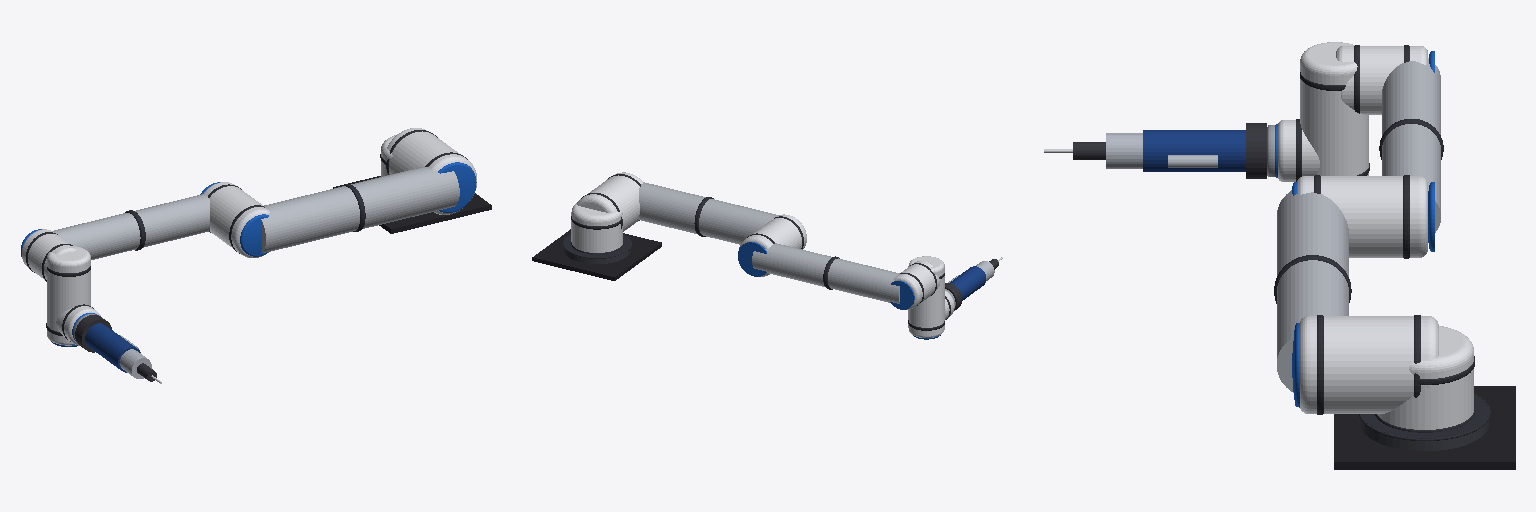
robot.urdf — sixaxis_ur5like:
<?xml version="1.0"?>
<robot name="sixaxis_ur5like">
  <material name="housing"><color rgba="0.86 0.87 0.89 1.0"/></material>
  <material name="tube"><color rgba="0.72 0.74 0.77 1.0"/></material>
  <material name="cap"><color rgba="0.16 0.42 0.78 1.0"/></material>
  <material name="ring"><color rgba="0.22 0.23 0.26 1.0"/></material>
  <material name="base"><color rgba="0.28 0.29 0.32 1.0"/></material>
  <material name="plate"><color rgba="0.18 0.18 0.2 1.0"/></material>
  <material name="flange"><color rgba="0.62 0.64 0.67 1.0"/></material>
  <material name="tcp"><color rgba="0.95 0.55 0.1 1.0"/></material>
  <link name="base_link">
    <inertial><mass value="1"/><inertia ixx="1" iyy="1" izz="1" ixy="0" ixz="0" iyz="0"/></inertial>
    <visual><origin xyz="0.0 0.0 0.005" rpy="0.0 0.0 0.0"/><geometry><box size="0.22 0.22 0.01"/></geometry><material name="plate"/></visual>
    <collision><origin xyz="0.0 0.0 0.005" rpy="0.0 0.0 0.0"/><geometry><box size="0.22 0.22 0.01"/></geometry></collision>
    <visual><origin xyz="0.0 0.0 0.0185" rpy="0.0 0.0 0.0"/><geometry><mesh filename="meshes/housing_L0170_R0780.obj" scale="1 1 1"/></geometry><material name="base"/></visual>
    <collision><origin xyz="0.0 0.0 0.0185" rpy="0.0 0.0 0.0"/><geometry><cylinder length="0.017" radius="0.078"/></geometry></collision>
    <visual><origin xyz="0.0 0.0 0.0255" rpy="0.0 0.0 0.0"/><geometry><mesh filename="meshes/ring_L0030_R0800.obj" scale="1 1 1"/></geometry><material name="ring"/></visual>
  </link>
  <link name="link1">
    <inertial><origin xyz="0.0 0.0 0.0445795" rpy="0.0 0.0 0.0"/><mass value="3.7"/><inertia ixx="0.005781042578308333" iyy="0.005781042578308333" izz="0.00666" ixy="0" ixz="0" iyz="0"/></inertial>
    <visual><origin xyz="0.0 0.0 0.06" rpy="0.0 0.0 0.0"/><geometry><mesh filename="meshes/housing_L1200_R0600.obj" scale="1 1 1"/></geometry><material name="housing"/></visual>
    <collision><origin xyz="0.0 0.0 0.06" rpy="0.0 0.0 0.0"/><geometry><cylinder length="0.12" radius="0.06"/></geometry></collision>
    <visual><origin xyz="0.0 0.0 0.025999999999999995" rpy="0.0 0.0 0.0"/><geometry><mesh filename="meshes/ring_L0100_R0612.obj" scale="1 1 1"/></geometry><material name="ring"/></visual>
    <visual><origin xyz="0.0 0.0 0.094" rpy="0.0 0.0 0.0"/><geometry><mesh filename="meshes/ring_L0100_R0612.obj" scale="1 1 1"/></geometry><material name="ring"/></visual>
  </link>
  <link name="link2">
    <inertial><origin xyz="-0.2125 0.0 0.0" rpy="0.0 -1.5707963267948966 0.0"/><mass value="8.393"/><inertia ixx="0.13267934166666667" iyy="0.13267934166666667" izz="0.012694412500000002" ixy="0" ixz="0" iyz="0"/></inertial>
    <visual><origin xyz="0.0 0.0 0.068" rpy="0.0 0.0 0.0"/><geometry><mesh filename="meshes/housing_L1700_R0600.obj" scale="1 1 1"/></geometry><material name="housing"/></visual>
    <collision><origin xyz="0.0 0.0 0.068" rpy="0.0 0.0 0.0"/><geometry><cylinder length="0.17" radius="0.06"/></geometry></collision>
    <visual><origin xyz="0.0 0.0 0.008999999999999994" rpy="0.0 0.0 0.0"/><geometry><mesh filename="meshes/ring_L0100_R0612.obj" scale="1 1 1"/></geometry><material name="ring"/></visual>
    <visual><origin xyz="0.0 0.0 0.15600000000000003" rpy="0.0 0.0 0.0"/><geometry><mesh filename="meshes/cap_L0100_R0516.obj" scale="1 1 1"/></geometry><material name="cap"/></visual>
    <visual><origin xyz="0.0 0.0 0.127" rpy="0.0 0.0 0.0"/><geometry><mesh filename="meshes/ring_L0100_R0612.obj" scale="1 1 1"/></geometry><material name="ring"/></visual>
    <visual><origin xyz="-0.2125 0.0 0.13585" rpy="0.0 -1.5707963267948966 0.0"/><geometry><mesh filename="meshes/tube_L4250_R0440.obj" scale="1 1 1"/></geometry><material name="tube"/></visual>
    <collision><origin xyz="-0.2125 0.0 0.13585" rpy="0.0 -1.5707963267948966 0.0"/><geometry><cylinder length="0.425" radius="0.044"/></geometry></collision>
    <visual><origin xyz="-0.2125 0.0 0.13585" rpy="-0.0 1.5707963267948966 0.0"/><geometry><mesh filename="meshes/ring_L0120_R0470.obj" scale="1 1 1"/></geometry><material name="ring"/></visual>
  </link>
  <link name="link3">
    <inertial><origin xyz="-0.196125 0.0 0.0" rpy="0.0 -1.5707963267948966 0.0"/><mass value="2.275"/><inertia ixx="0.030321022265624994" iyy="0.030321022265624994" izz="0.0023034375" ixy="0" ixz="0" iyz="0"/></inertial>
    <visual><origin xyz="0.0 0.0 0.076" rpy="0.0 0.0 0.0"/><geometry><mesh filename="meshes/housing_L1600_R0500.obj" scale="1 1 1"/></geometry><material name="housing"/></visual>
    <collision><origin xyz="0.0 0.0 0.076" rpy="0.0 0.0 0.0"/><geometry><cylinder length="0.16" radius="0.05"/></geometry></collision>
    <visual><origin xyz="0.0 0.0 -0.007000000000000006" rpy="0.0 0.0 0.0"/><geometry><mesh filename="meshes/cap_L0100_R0430.obj" scale="1 1 1"/></geometry><material name="cap"/></visual>
    <visual><origin xyz="0.0 0.0 0.021999999999999992" rpy="0.0 0.0 0.0"/><geometry><mesh filename="meshes/ring_L0100_R0510.obj" scale="1 1 1"/></geometry><material name="ring"/></visual>
    <visual><origin xyz="0.0 0.0 0.159" rpy="0.0 0.0 0.0"/><geometry><mesh filename="meshes/cap_L0100_R0430.obj" scale="1 1 1"/></geometry><material name="cap"/></visual>
    <visual><origin xyz="0.0 0.0 0.13" rpy="0.0 0.0 0.0"/><geometry><mesh filename="meshes/ring_L0100_R0510.obj" scale="1 1 1"/></geometry><material name="ring"/></visual>
    <visual><origin xyz="-0.196125 0.0 0.016149999999999998" rpy="0.0 -1.5707963267948966 0.0"/><geometry><mesh filename="meshes/tube_L3922_R0360.obj" scale="1 1 1"/></geometry><material name="tube"/></visual>
    <collision><origin xyz="-0.196125 0.0 0.016149999999999998" rpy="0.0 -1.5707963267948966 0.0"/><geometry><cylinder length="0.39225" radius="0.036"/></geometry></collision>
    <visual><origin xyz="-0.196125 0.0 0.016149999999999998" rpy="-0.0 1.5707963267948966 0.0"/><geometry><mesh filename="meshes/ring_L0120_R0390.obj" scale="1 1 1"/></geometry><material name="ring"/></visual>
  </link>
  <link name="link4">
    <inertial><origin xyz="0.0 0.0 0.054575" rpy="0.0 0.0 0.0"/><mass value="1.219"/><inertia ixx="0.0016978356439583335" iyy="0.0016978356439583335" izz="0.0009752000000000001" ixy="0" ixz="0" iyz="0"/></inertial>
    <visual><origin xyz="0.0 0.0 0.052" rpy="0.0 0.0 0.0"/><geometry><mesh filename="meshes/housing_L1120_R0420.obj" scale="1 1 1"/></geometry><material name="housing"/></visual>
    <collision><origin xyz="0.0 0.0 0.052" rpy="0.0 0.0 0.0"/><geometry><cylinder length="0.112" radius="0.042"/></geometry></collision>
    <visual><origin xyz="0.0 0.0 -0.006999999999999999" rpy="0.0 0.0 0.0"/><geometry><mesh filename="meshes/cap_L0100_R0361.obj" scale="1 1 1"/></geometry><material name="cap"/></visual>
    <visual><origin xyz="0.0 0.0 0.021999999999999995" rpy="0.0 0.0 0.0"/><geometry><mesh filename="meshes/ring_L0100_R0428.obj" scale="1 1 1"/></geometry><material name="ring"/></visual>
    <visual><origin xyz="0.0 0.0 0.082" rpy="0.0 0.0 0.0"/><geometry><mesh filename="meshes/ring_L0100_R0428.obj" scale="1 1 1"/></geometry><material name="ring"/></visual>
  </link>
  <link name="link5">
    <inertial><origin xyz="0.0 0.0 0.047325" rpy="0.0 0.0 0.0"/><mass value="1.219"/><inertia ixx="0.001397646735625" iyy="0.001397646735625" izz="0.0009752000000000001" ixy="0" ixz="0" iyz="0"/></inertial>
    <visual><origin xyz="0.0 0.0 0.0535" rpy="0.0 0.0 0.0"/><geometry><mesh filename="meshes/housing_L1770_R0420.obj" scale="1 1 1"/></geometry><material name="housing"/></visual>
    <collision><origin xyz="0.0 0.0 0.0535" rpy="0.0 0.0 0.0"/><geometry><cylinder length="0.177" radius="0.042"/></geometry></collision>
    <visual><origin xyz="0.0 0.0 -0.009000000000000001" rpy="0.0 0.0 0.0"/><geometry><mesh filename="meshes/ring_L0100_R0428.obj" scale="1 1 1"/></geometry><material name="ring"/></visual>
    <visual><origin xyz="0.0 0.0 0.145" rpy="0.0 0.0 0.0"/><geometry><mesh filename="meshes/cap_L0100_R0361.obj" scale="1 1 1"/></geometry><material name="cap"/></visual>
    <visual><origin xyz="0.0 0.0 0.11599999999999999" rpy="0.0 0.0 0.0"/><geometry><mesh filename="meshes/ring_L0100_R0428.obj" scale="1 1 1"/></geometry><material name="ring"/></visual>
  </link>
  <link name="link6">
    <inertial><origin xyz="0.0 0.0 0.04115" rpy="0.0 0.0 0.0"/><mass value="0.1879"/><inertia ixx="0.00016360280758333335" iyy="0.00016360280758333335" izz="0.00011508875000000002" ixy="0" ixz="0" iyz="0"/></inertial>
    <visual><origin xyz="0.0 0.0 0.0275" rpy="0.0 0.0 0.0"/><geometry><mesh filename="meshes/housing_L0850_R0380.obj" scale="1 1 1"/></geometry><material name="housing"/></visual>
    <collision><origin xyz="0.0 0.0 0.0275" rpy="0.0 0.0 0.0"/><geometry><cylinder length="0.085" radius="0.038"/></geometry></collision>
    <visual><origin xyz="0.0 0.0 0.010999999999999996" rpy="0.0 0.0 0.0"/><geometry><mesh filename="meshes/ring_L0100_R0388.obj" scale="1 1 1"/></geometry><material name="ring"/></visual>
    <visual><origin xyz="0.0 0.0 0.073" rpy="0.0 0.0 0.0"/><geometry><mesh filename="meshes/cap_L0100_R0327.obj" scale="1 1 1"/></geometry><material name="cap"/></visual>
    <visual><origin xyz="0.0 0.0 0.044000000000000004" rpy="0.0 0.0 0.0"/><geometry><mesh filename="meshes/ring_L0100_R0388.obj" scale="1 1 1"/></geometry><material name="ring"/></visual>
    <visual><origin xyz="0.0 0.0 0.07629999999999999" rpy="0.0 0.0 0.0"/><geometry><mesh filename="meshes/ring_L0120_R0320.obj" scale="1 1 1"/></geometry><material name="flange"/></visual>
    <collision><origin xyz="0.0 0.0 0.07629999999999999" rpy="0.0 0.0 0.0"/><geometry><cylinder length="0.012" radius="0.032"/></geometry></collision>
    <visual><origin xyz="0.0 0.0 0.0818" rpy="0.0 0.0 0.0"/><geometry><cylinder length="0.001" radius="0.01"/></geometry><material name="tcp"/></visual>
  </link>
  <link name="flange"><inertial><mass value="1e-06"/><inertia ixx="1e-12" iyy="1e-12" izz="1e-12" ixy="0" ixz="0" iyz="0"/></inertial></link>
  <joint name="joint1" type="revolute"><parent link="base_link"/><child link="link1"/><origin xyz="0.0 0.0 0.0" rpy="0.0 0.0 0.0"/><axis xyz="0 0 1"/><limit lower="-6.283185307179586" upper="6.283185307179586" effort="150.0" velocity="3.141592653589793"/></joint>
  <joint name="joint2" type="revolute"><parent link="link1"/><child link="link2"/><origin xyz="0.0 0.0 0.089159" rpy="1.5707963267948966 0.0 0.0"/><axis xyz="0 0 1"/><limit lower="-6.283185307179586" upper="6.283185307179586" effort="150.0" velocity="3.141592653589793"/></joint>
  <joint name="joint3" type="revolute"><parent link="link2"/><child link="link3"/><origin xyz="-0.425 0.0 0.0" rpy="0.0 0.0 0.0"/><axis xyz="0 0 1"/><limit lower="-6.283185307179586" upper="6.283185307179586" effort="150.0" velocity="3.141592653589793"/></joint>
  <joint name="joint4" type="revolute"><parent link="link3"/><child link="link4"/><origin xyz="-0.39225 0.0 0.0" rpy="0.0 0.0 0.0"/><axis xyz="0 0 1"/><limit lower="-6.283185307179586" upper="6.283185307179586" effort="28.0" velocity="3.141592653589793"/></joint>
  <joint name="joint5" type="revolute"><parent link="link4"/><child link="link5"/><origin xyz="0.0 0.0 0.10915" rpy="1.5707963267948966 0.0 0.0"/><axis xyz="0 0 1"/><limit lower="-6.283185307179586" upper="6.283185307179586" effort="28.0" velocity="3.141592653589793"/></joint>
  <joint name="joint6" type="revolute"><parent link="link5"/><child link="link6"/><origin xyz="0.0 0.0 0.09465" rpy="-1.5707963267948966 0.0 0.0"/><axis xyz="0 0 1"/><limit lower="-6.283185307179586" upper="6.283185307179586" effort="28.0" velocity="3.141592653589793"/></joint>
  <joint name="flange_joint" type="fixed"><parent link="link6"/><child link="flange"/><origin xyz="0.0 0.0 0.0823" rpy="0.0 0.0 0.0"/></joint>
  <material name="dbody"><color rgba="0.16 0.30 0.55 1"/></material>
  <material name="dgear"><color rgba="0.72 0.74 0.78 1"/></material>
  <material name="dsleeve"><color rgba="0.25 0.25 0.28 1"/></material>
  <material name="dbit"><color rgba="0.85 0.86 0.88 1"/></material>
  <link name="driver"><inertial><mass value="1.6"/><origin xyz="0.0 0.0 0.105"/><inertia ixx="0.007680" iyy="0.007680" izz="6e-4" ixy="0" ixz="0" iyz="0"/></inertial><visual><origin xyz="0.0 0 0.012500"/><geometry><cylinder length="0.025000" radius="0.034"/></geometry><material name="dsleeve"/></visual><collision><origin xyz="0.0 0 0.012500"/><geometry><cylinder length="0.025000" radius="0.034"/></geometry></collision><visual><origin xyz="0.0 0 0.087500"/><geometry><cylinder length="0.125000" radius="0.026"/></geometry><material name="dbody"/></visual><collision><origin xyz="0.0 0 0.087500"/><geometry><cylinder length="0.125000" radius="0.026"/></geometry></collision><visual><origin xyz="0.03 0 0.090000"/><geometry><cylinder length="0.060000" radius="0.008"/></geometry><material name="dgear"/></visual><collision><origin xyz="0.03 0 0.090000"/><geometry><cylinder length="0.060000" radius="0.008"/></geometry></collision><visual><origin xyz="0.0 0 0.172500"/><geometry><cylinder length="0.045000" radius="0.022"/></geometry><material name="dgear"/></visual><collision><origin xyz="0.0 0 0.172500"/><geometry><cylinder length="0.045000" radius="0.022"/></geometry></collision><visual><origin xyz="0.0 0 0.215000"/><geometry><cylinder length="0.040000" radius="0.011"/></geometry><material name="dsleeve"/></visual><collision><origin xyz="0.0 0 0.215000"/><geometry><cylinder length="0.040000" radius="0.011"/></geometry></collision><visual><origin xyz="0.0 0 0.252500"/><geometry><cylinder length="0.035000" radius="0.0022"/></geometry><material name="dbit"/></visual></link>
  <link name="tcp"><inertial><mass value="1e-6"/><inertia ixx="1e-12" iyy="1e-12" izz="1e-12" ixy="0" ixz="0" iyz="0"/></inertial></link>
  <joint name="driver_mount" type="fixed"><parent link="flange"/><child link="driver"/></joint>
  <joint name="tcp_joint" type="fixed"><parent link="driver"/><child link="tcp"/><origin xyz="0 0 0.270000000"/></joint>
</robot>

--- Render facts (derived) ---
3 views of the same robot in one strip: view 1: azimuth 30°, elevation 25°; view 2: azimuth 150°, elevation 25°; view 3: azimuth 270°, elevation 25° (orthographic).
Model sixaxis_ur5like with 10 links and 9 joints (6 revolute, 3 fixed), rooted at base_link, posed all joints at 0.
Links seen in each view (by area): view 1: link2, link3, link5, driver, link4, base_link, link6; view 2: link2, link3, base_link, link1, link5, link4, driver; view 3: link2, link3, base_link, driver, link5, link1, link4, link6.
Boxes of the visible links, bbox=[...] form: link2: bbox=[261, 128, 476, 253]; link3: bbox=[53, 182, 269, 259]; link5: bbox=[46, 246, 90, 346]; driver: bbox=[75, 315, 161, 383]; link4: bbox=[21, 229, 76, 281]; base_link: bbox=[333, 176, 491, 233]; link6: bbox=[56, 304, 100, 345]; link2: bbox=[577, 172, 778, 244]; link3: bbox=[738, 214, 899, 303]; base_link: bbox=[532, 229, 661, 280]; link1: bbox=[571, 203, 623, 253]; link5: bbox=[908, 256, 944, 339]; link4: bbox=[890, 261, 940, 309]; driver: bbox=[945, 257, 1002, 310]; link2: bbox=[1274, 190, 1438, 414]; link3: bbox=[1292, 58, 1443, 258]; base_link: bbox=[1334, 386, 1515, 469]; driver: bbox=[1044, 123, 1266, 178]; link5: bbox=[1300, 42, 1369, 175]; link1: bbox=[1375, 326, 1474, 432]; link4: bbox=[1336, 45, 1434, 114]; link6: bbox=[1267, 119, 1319, 181].
Bounding box of the posed robot: 0.9701 × 0.5714 × 0.2112 m (x, y, z).
31 mesh visuals loaded from 21 distinct referenced files (21 OBJ).
